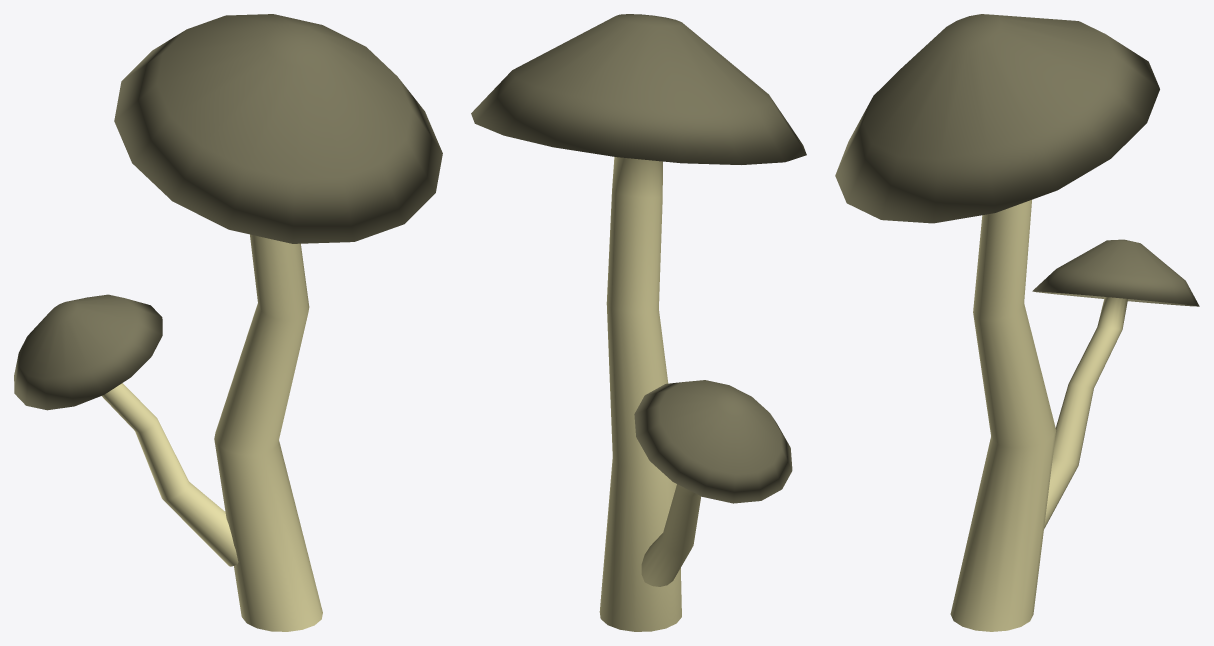
The model's file is mushrooms00.fbx.
3 renders of one model, left to right at view 1: azimuth 30°, elevation 25°; view 2: azimuth 150°, elevation 25°; view 3: azimuth 270°, elevation 25°, orthographic.
Parts seen in each view (by area): view 1: Cylinder.004; view 2: Cylinder.004; view 3: Cylinder.004.
Boxes of the visible parts, x1=… form: Cylinder.004: x1=14, y1=14, x2=442, y2=631; Cylinder.004: x1=471, y1=14, x2=806, y2=631; Cylinder.004: x1=835, y1=14, x2=1199, y2=631.
Bounding box in the file's own units: 56.11 × 91.79 × 51.16.
